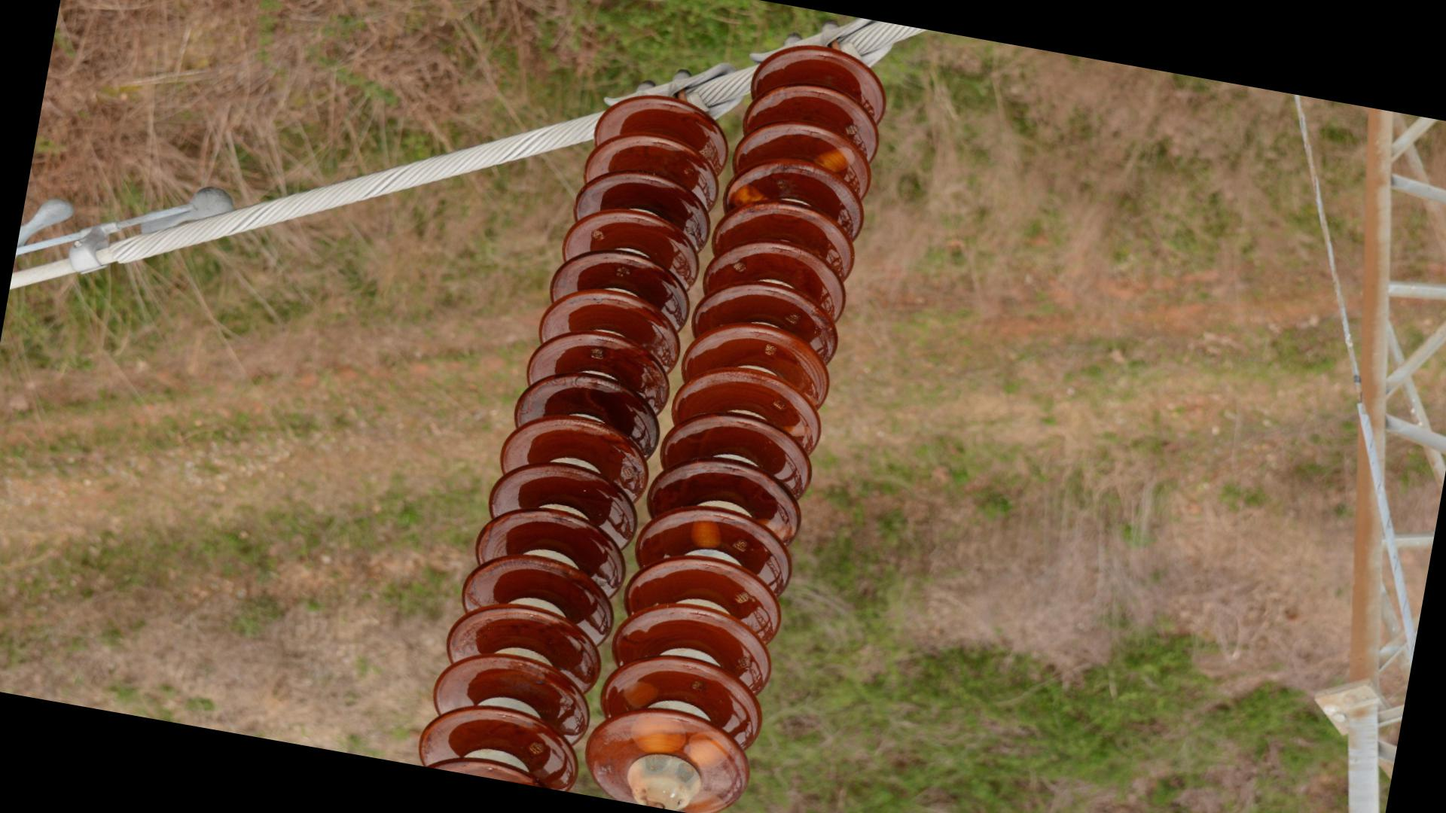damper: (1, 141, 248, 309)
